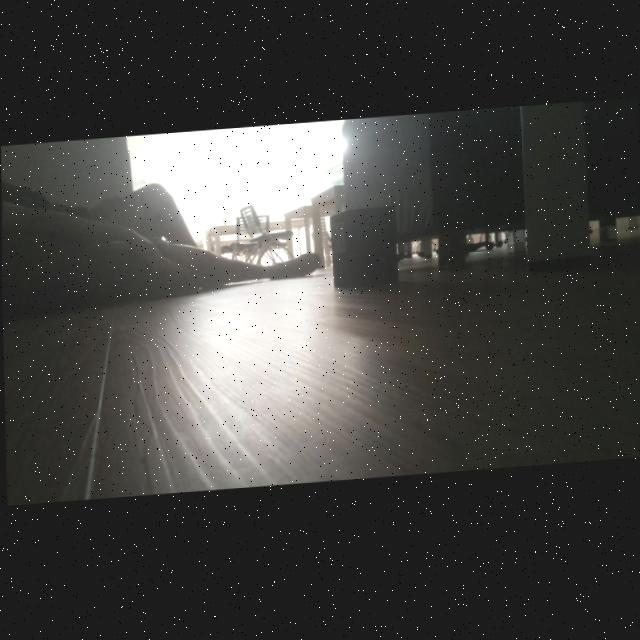H: (334, 228, 342, 253)
